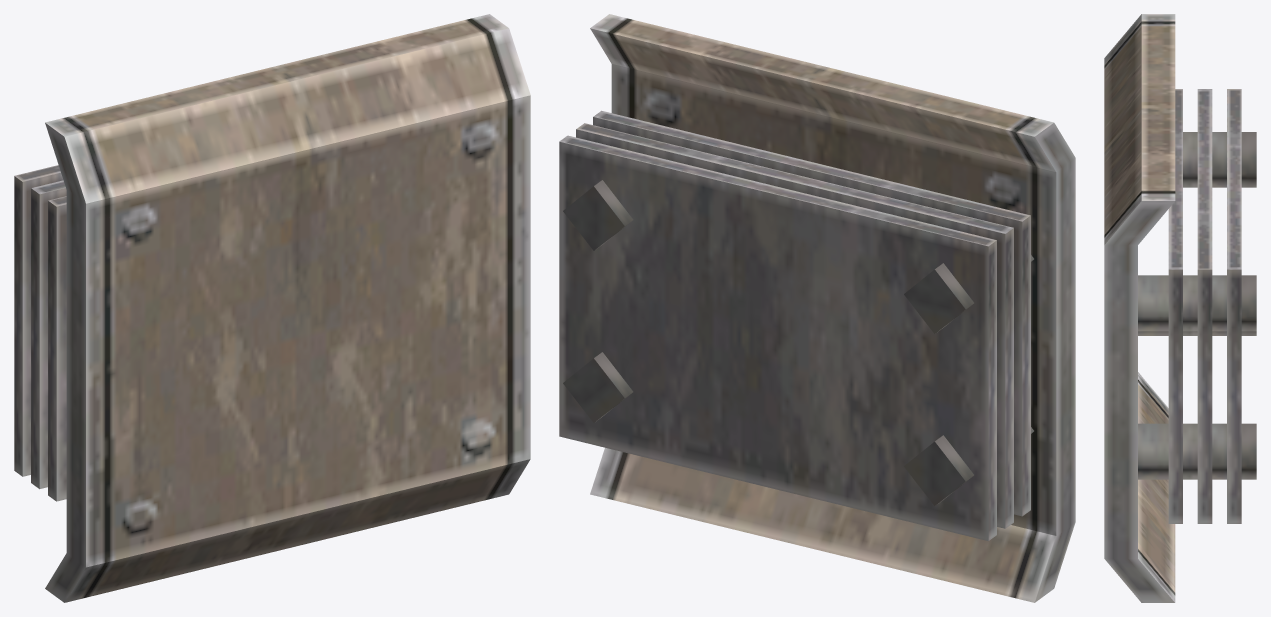
Rendered from eqp_comp_armor_module.fbx.
3 views of the same model, side by side, from view 1: azimuth 30°, elevation 25°; view 2: azimuth 150°, elevation 25°; view 3: azimuth 270°, elevation 25° (orthographic). The views are drawn at different scales.
Parts seen in each view (by area): view 1: mesh_node; view 2: mesh_node; view 3: mesh_node.
Part boxes in pixels (left/top/right/bottom): mesh_node: left=14, top=14, right=530, bottom=602; mesh_node: left=559, top=14, right=1075, bottom=602; mesh_node: left=1104, top=14, right=1256, bottom=602.
Bounding box in the file's own units: 0.5979 × 0.5988 × 0.2055.
Materials: 1 (1 with a texture image).
